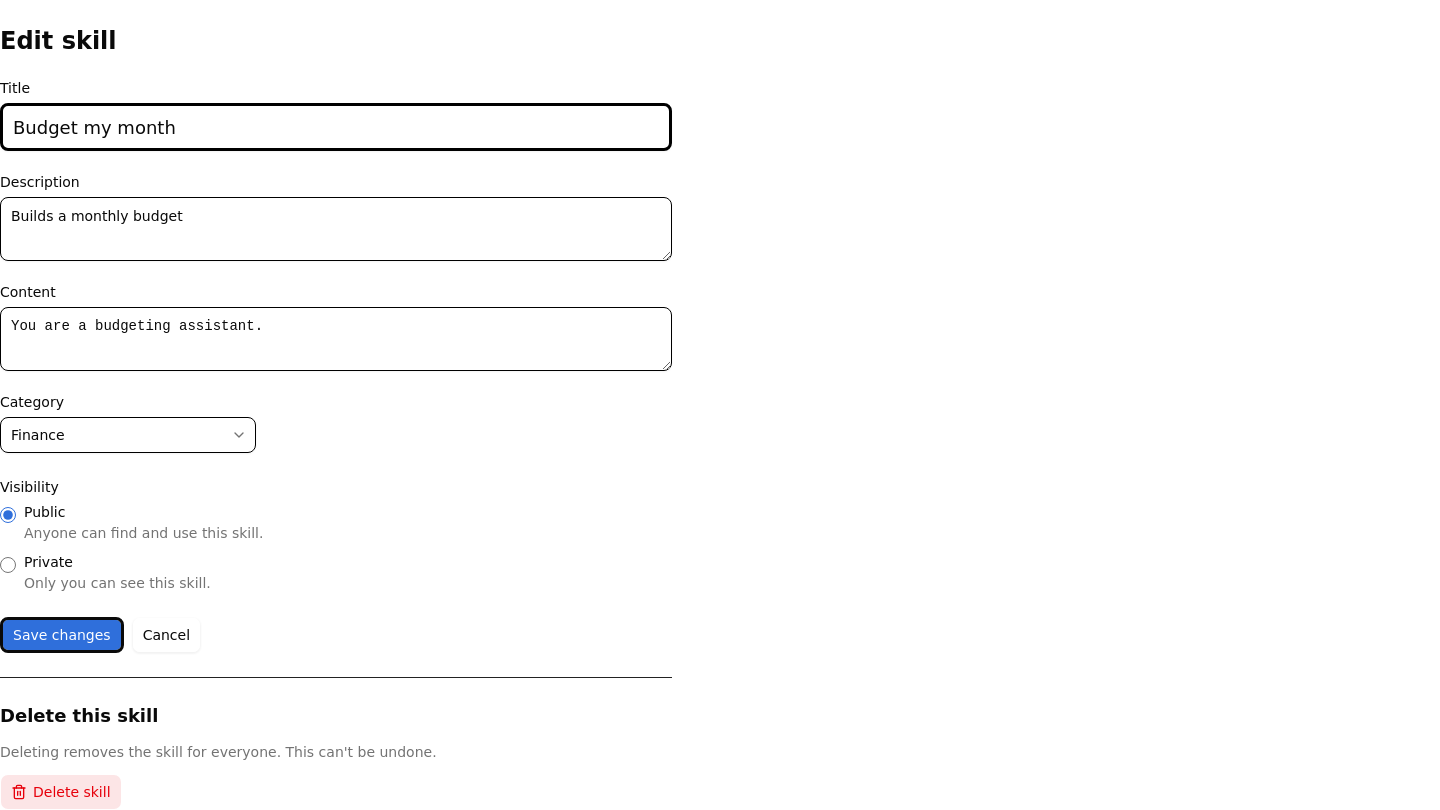
Test: Delete skill › shows an error when the skill is already gone (404)
(page scrolled)
Click the button "Delete skill".
click(61, 792)  # box [0,774,122,809]
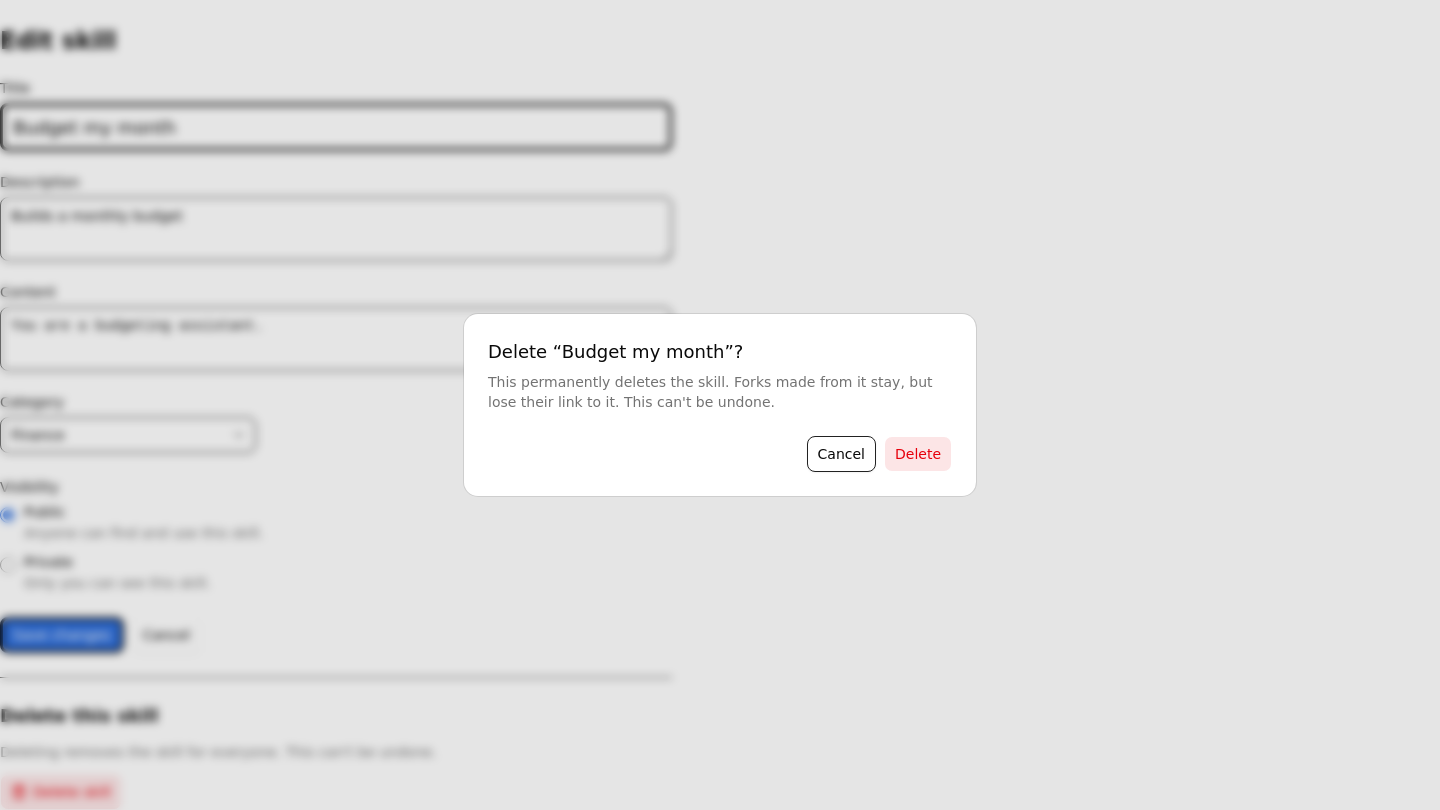
Result: the dialog is shown at [464,314,976,496]
Click the button "Delete".
click(918, 454)  # box [884,436,952,472]
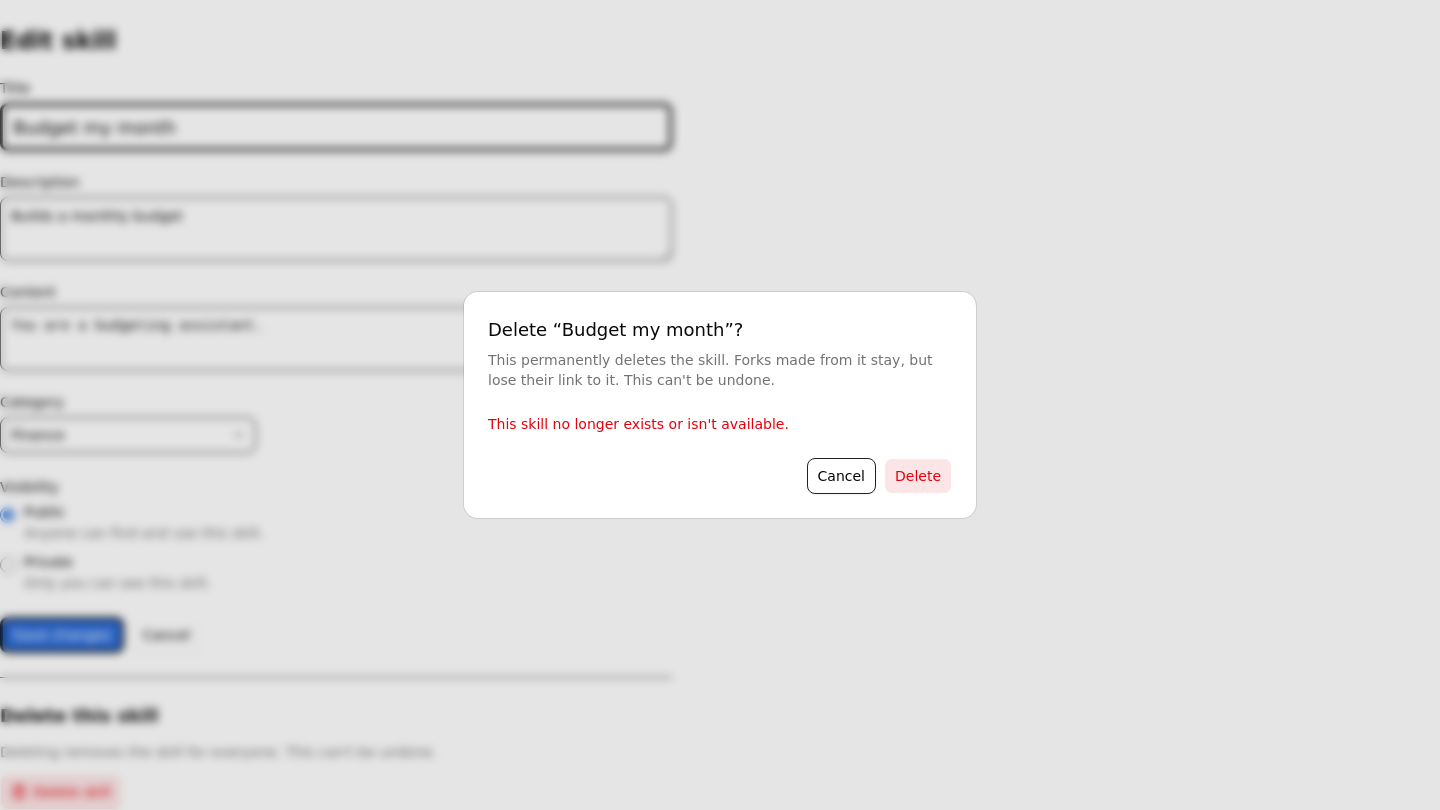
Result: the message reads "This skill no longer exists or isn't available." at [488,416,789,432]
